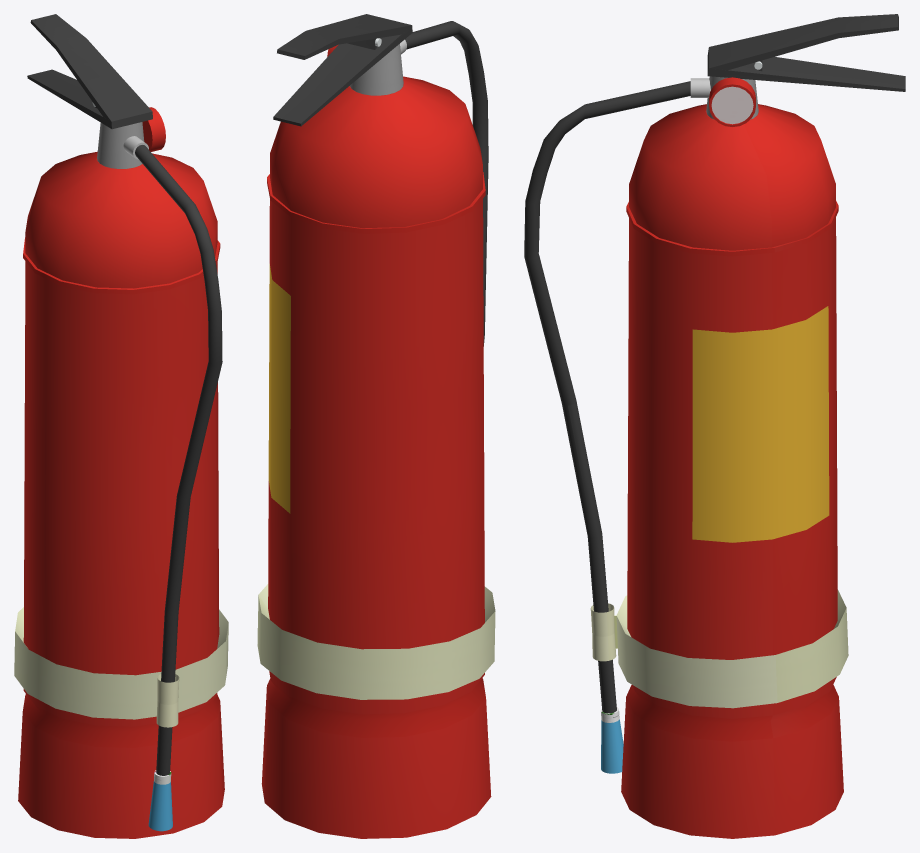
Rendered from SM_FireExtinguisher.fbx.
The picture shows the model from 3 angles, left to right: view 1: azimuth 30°, elevation 25°; view 2: azimuth 150°, elevation 25°; view 3: azimuth 270°, elevation 25°; orthographic projection. The views are drawn at different scales.
Parts seen in each view (by area): view 1: SM_FireExtinguisher; view 2: SM_FireExtinguisher; view 3: SM_FireExtinguisher.
Part boxes in pixels (bbox=[...]): SM_FireExtinguisher: bbox=[14, 14, 228, 838]; SM_FireExtinguisher: bbox=[257, 14, 495, 838]; SM_FireExtinguisher: bbox=[524, 14, 905, 838].
Bounding box in the file's own units: 26.69 × 98.64 × 44.25.
